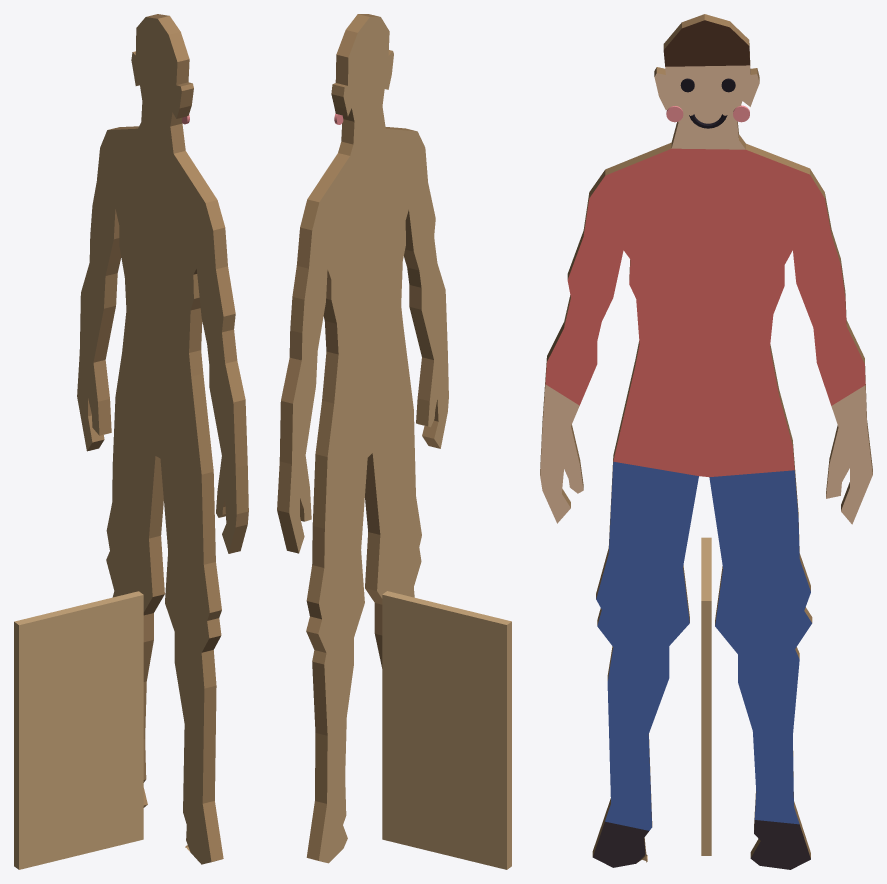
The model's file is KartonFigur.fbx.
3 renders of one model, left to right at view 1: azimuth 30°, elevation 25°; view 2: azimuth 150°, elevation 25°; view 3: azimuth 270°, elevation 25°, orthographic. The views are drawn at different scales.
Visible parts, largest first — view 1: Karton_Figur; view 2: Karton_Figur; view 3: Karton_Figur.
Boxes of the visible parts, x1,y1,x2,y2 form: Karton_Figur: [14, 14, 248, 869]; Karton_Figur: [277, 14, 511, 869]; Karton_Figur: [540, 14, 872, 869].
Size of the model in its own units: 0.8924 by 4.48 by 1.59.
